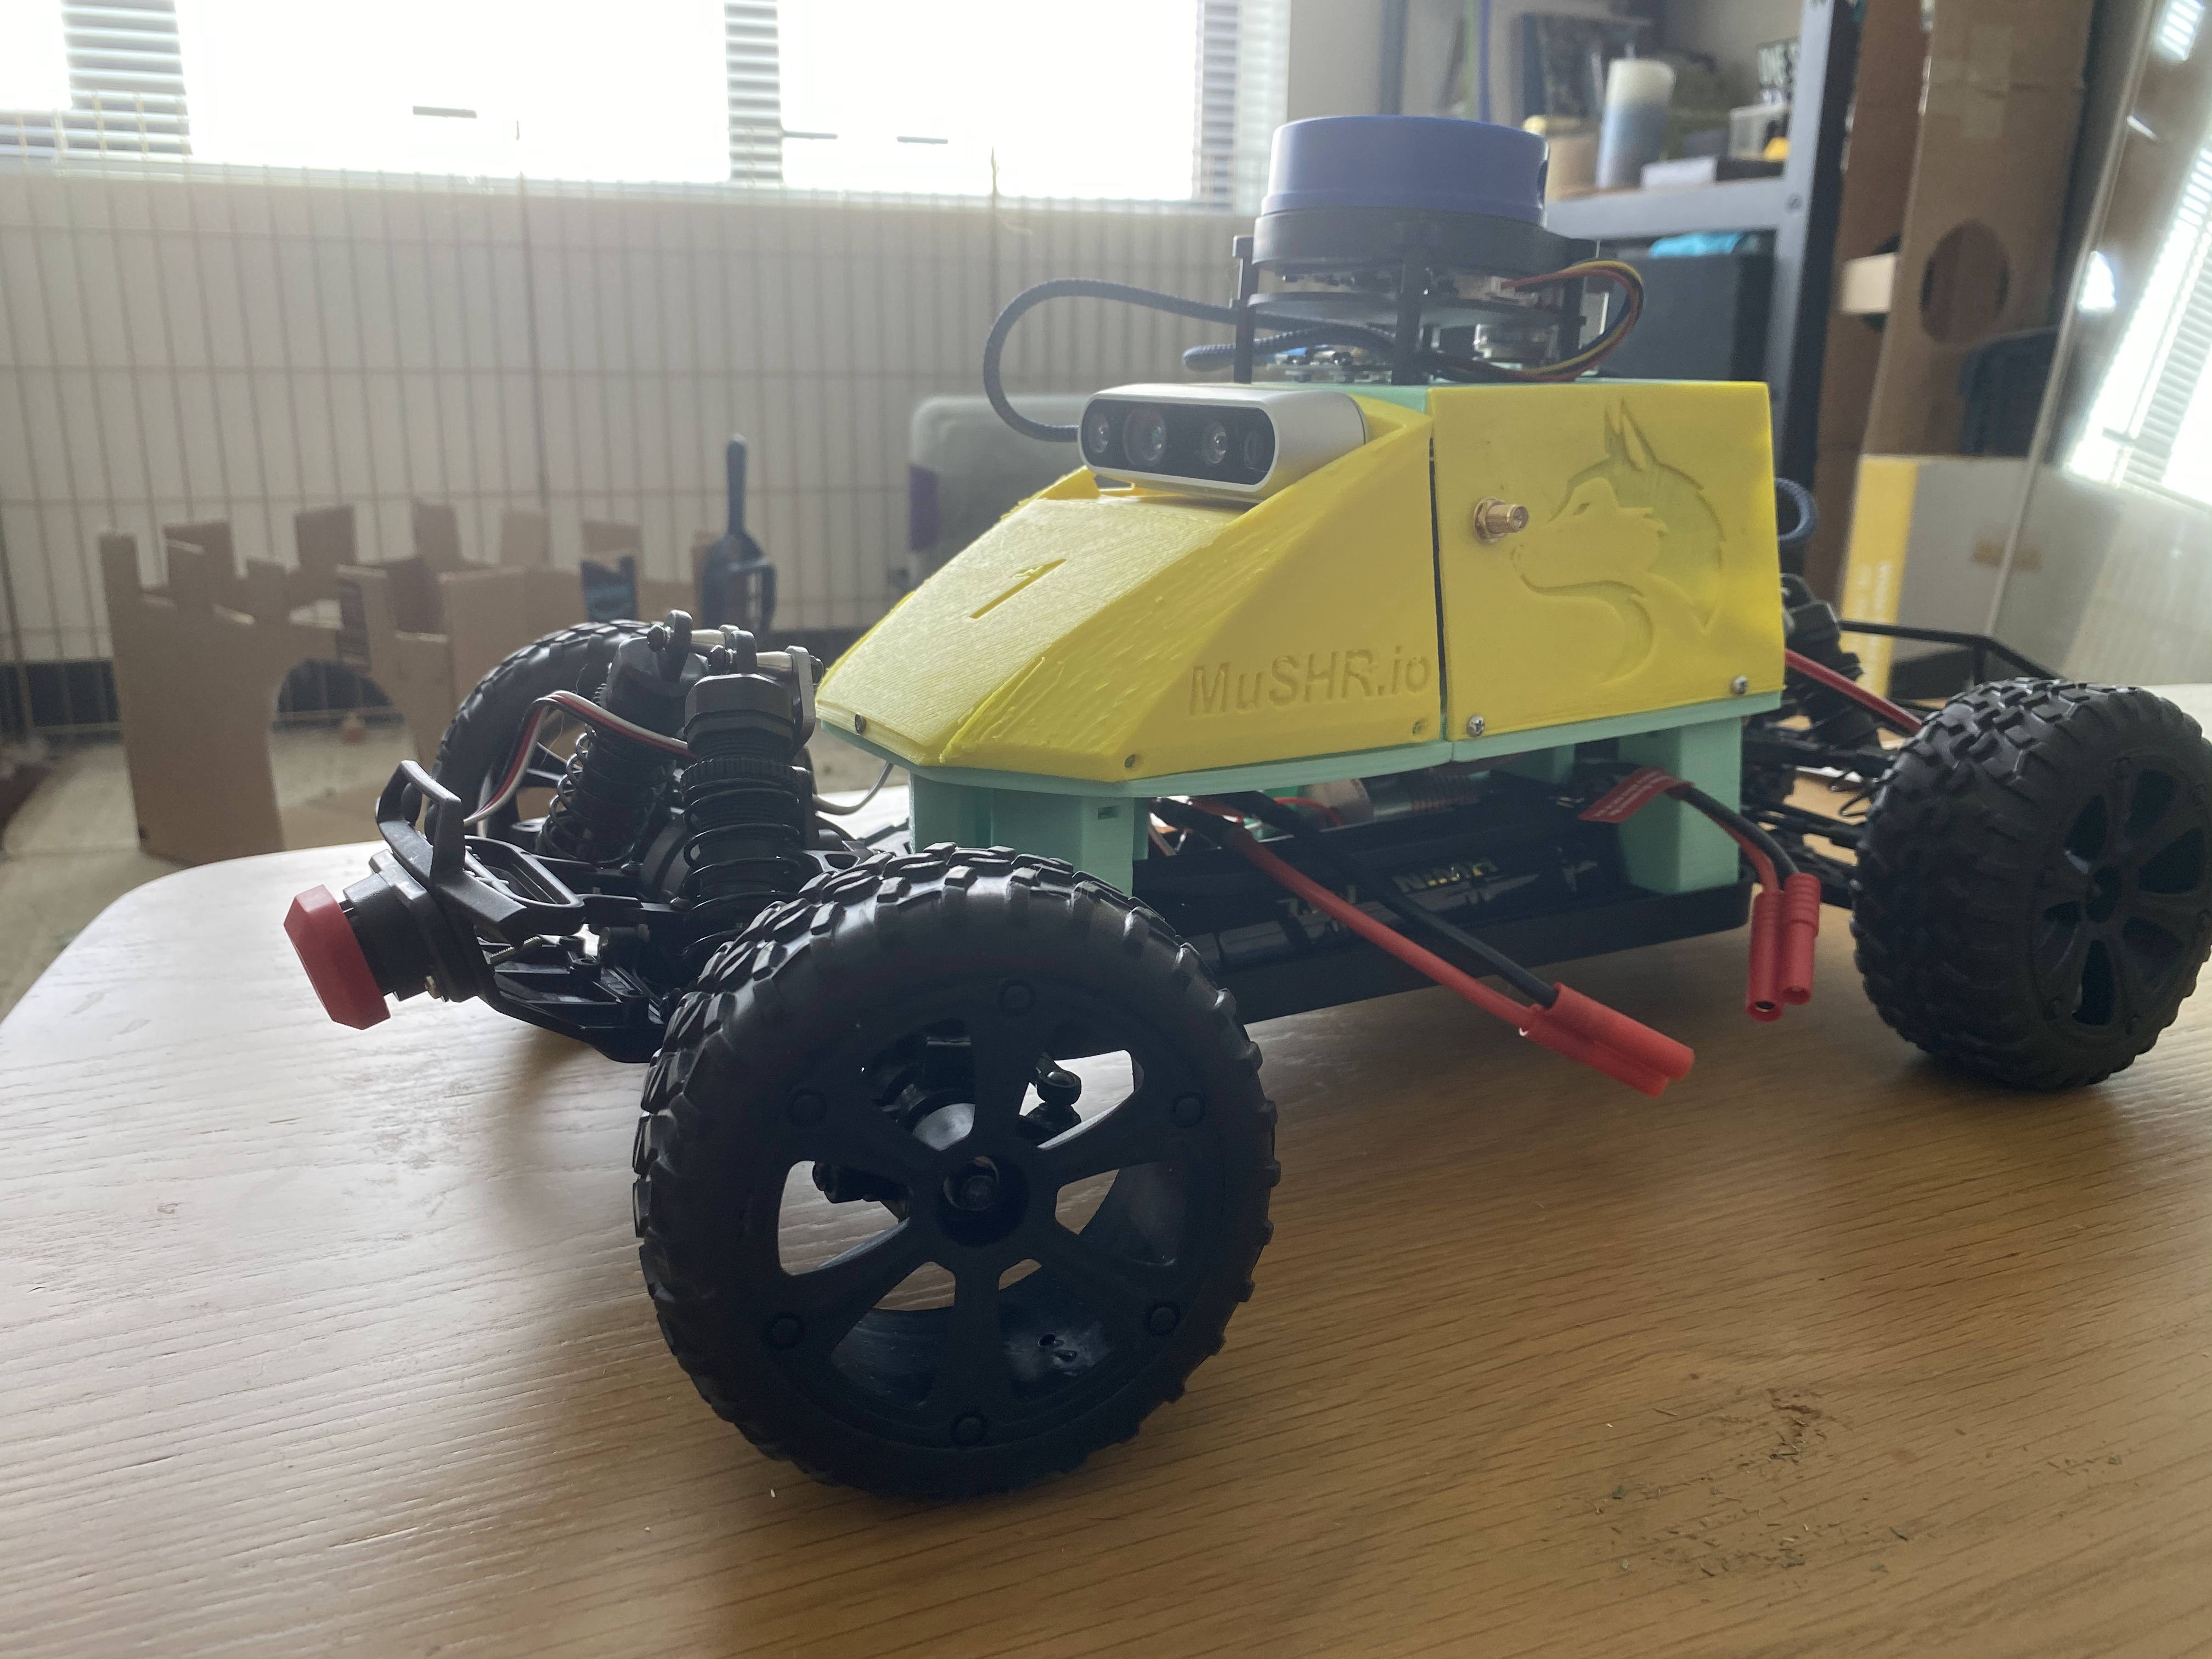mushr_car: (258, 108, 2212, 1507)
